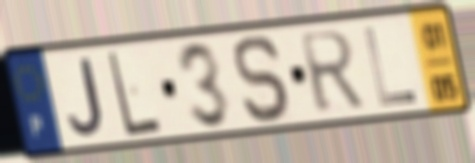3: (175, 38, 233, 132)
J: (65, 54, 108, 139)
L: (105, 48, 165, 140), (360, 25, 421, 109)
R: (296, 27, 369, 118)
S: (232, 32, 295, 125)
